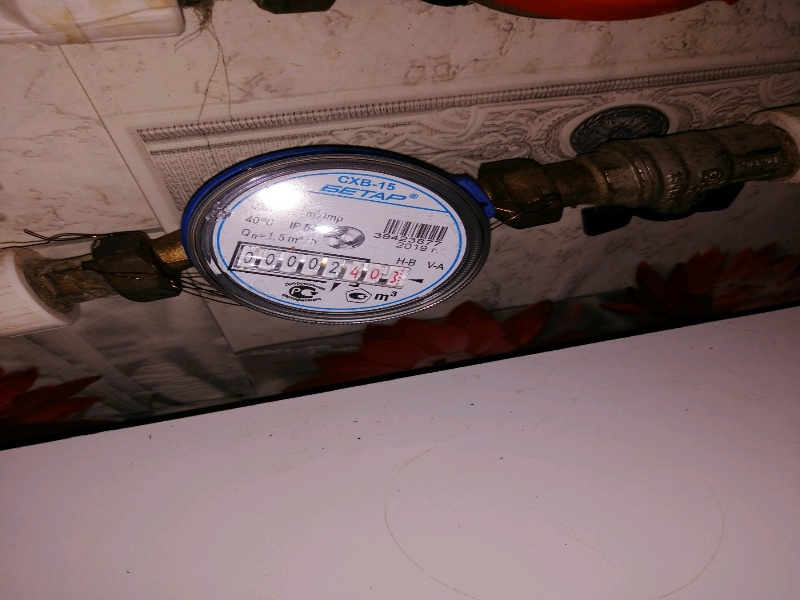meter: (237, 246, 406, 290)
